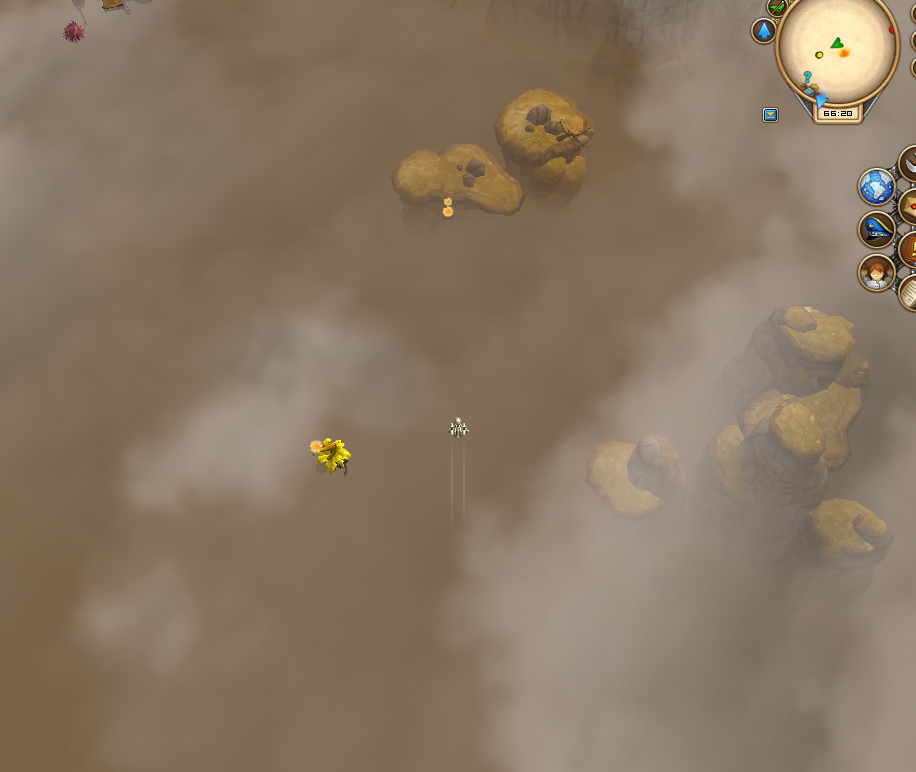dandelion-full: (305, 431, 357, 482)
fluff: (440, 191, 457, 209), (441, 205, 456, 221)
